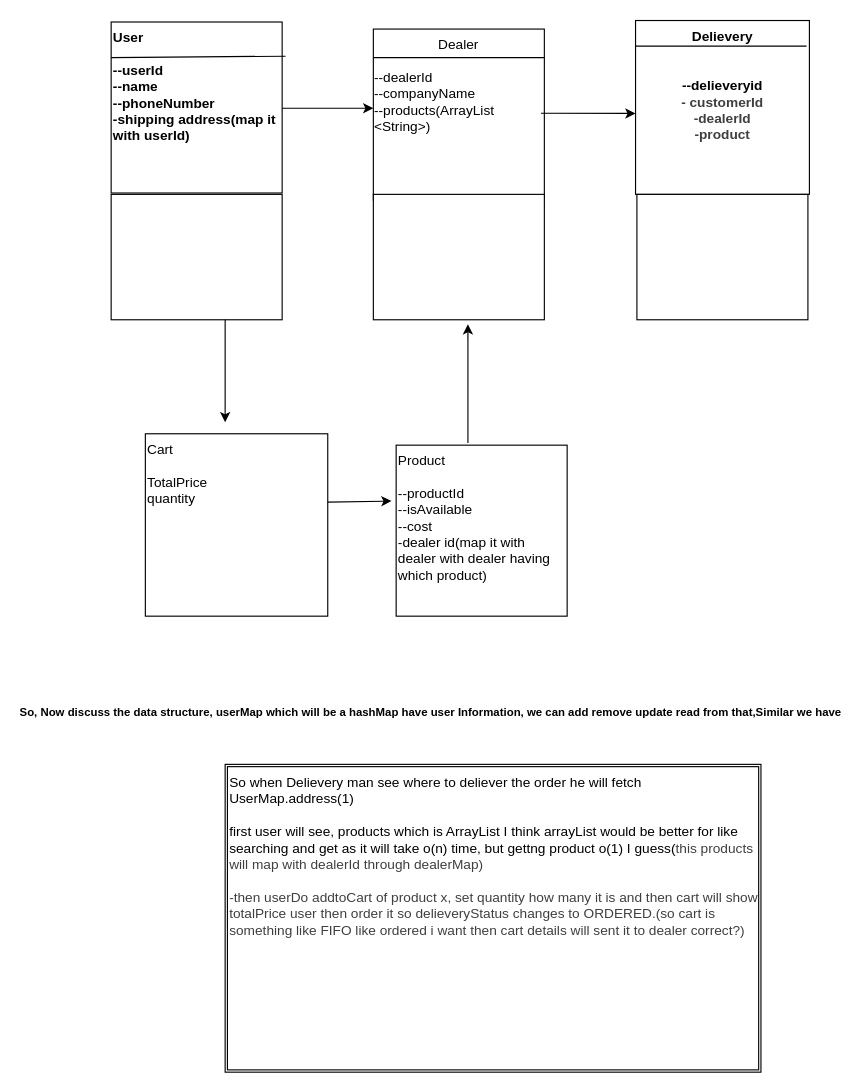
Image size: 861x1092. Some labels were removed from this diagram. Each missing label, with the centre of its shape:
"---addorderToCart --RemoveOrderToCart --changeDeliveryStatus as Ordered" goes at (196,256).
"--viewOrder --checkAvailability --changeDelieveryStatus as Shipped -" goes at (458,256).
"-ViewParcel -ChangeDeliveryStatus as Delievered" goes at (722,256).
